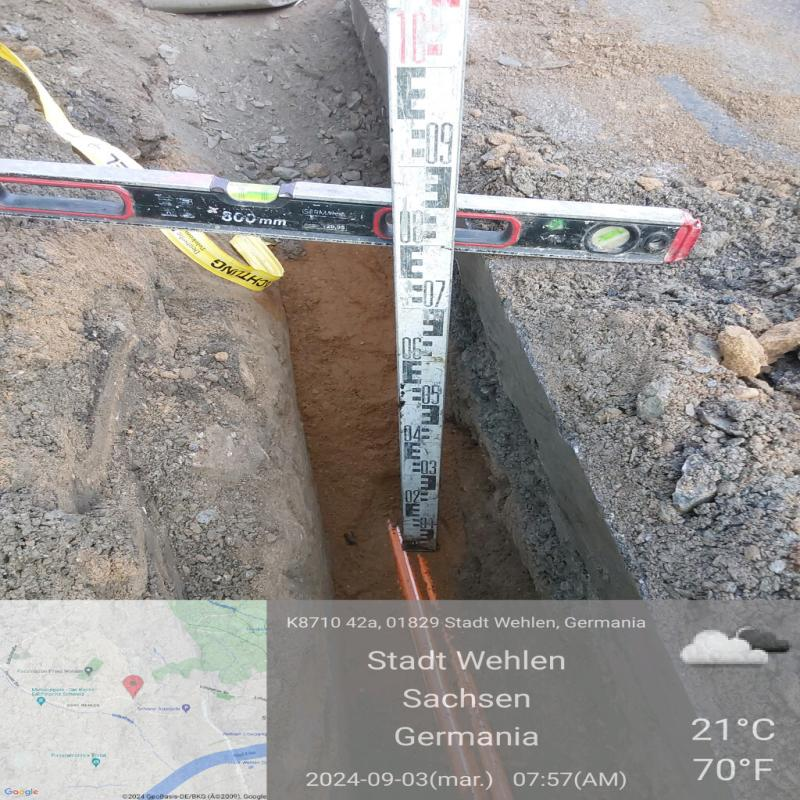Orang-Speednetrohrchen: (383, 529, 526, 796)
